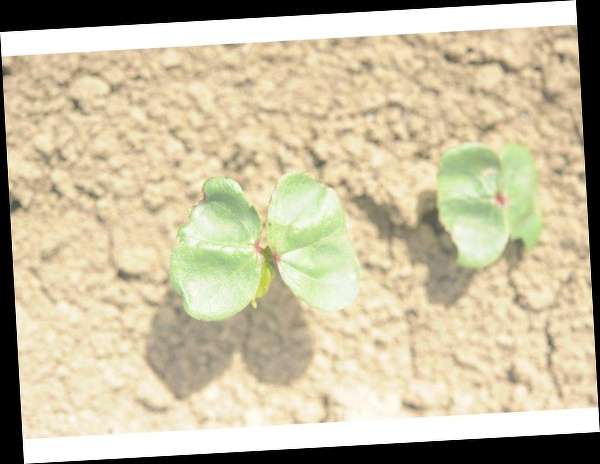cotton: (167, 170, 358, 315), (435, 141, 543, 269)
